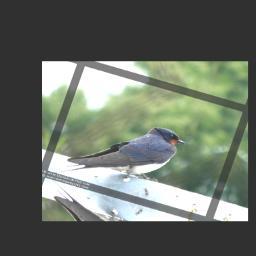Swallow: (48, 101, 189, 208)
